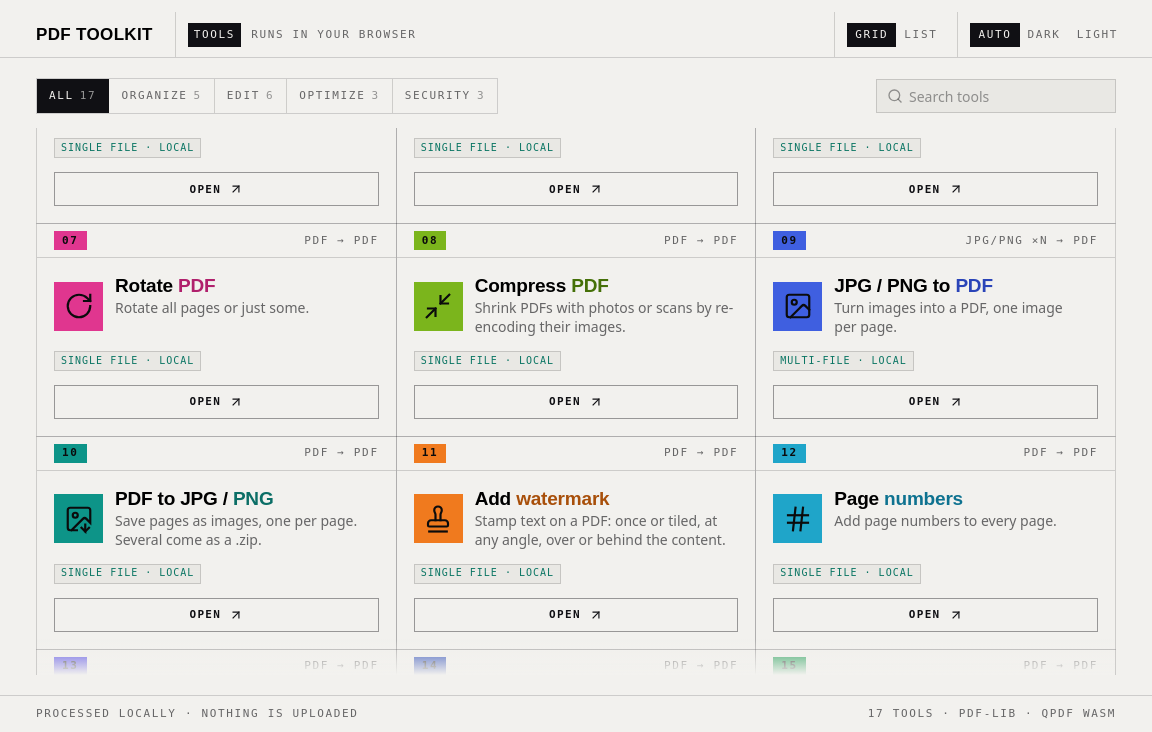
Scenario: navigates from the grid to a tool and back
(page scrolled)
Expected: the button "All tools" is not shown
Click the button with aria-label "Open Compress PDF": (576, 402) [414,385,738,419]
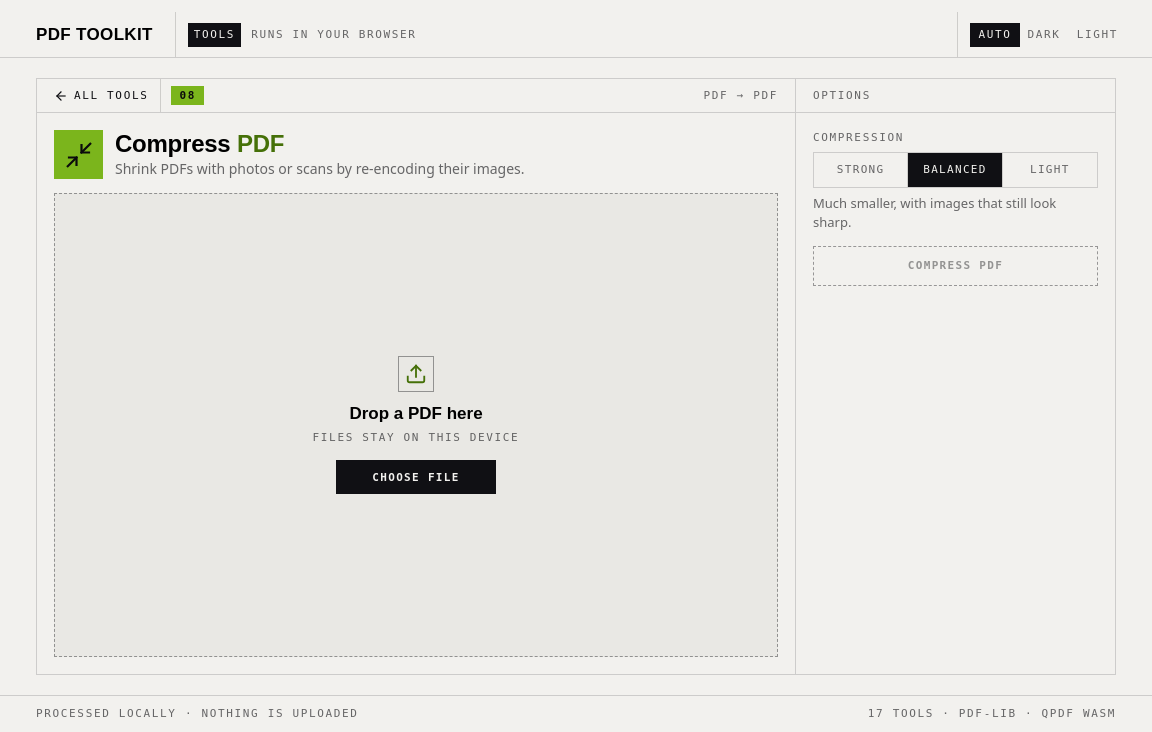
Expected: the heading "Compress PDF" is shown, [115,130,284,157]
Click the button "All tools": (99, 96) [37,79,160,112]
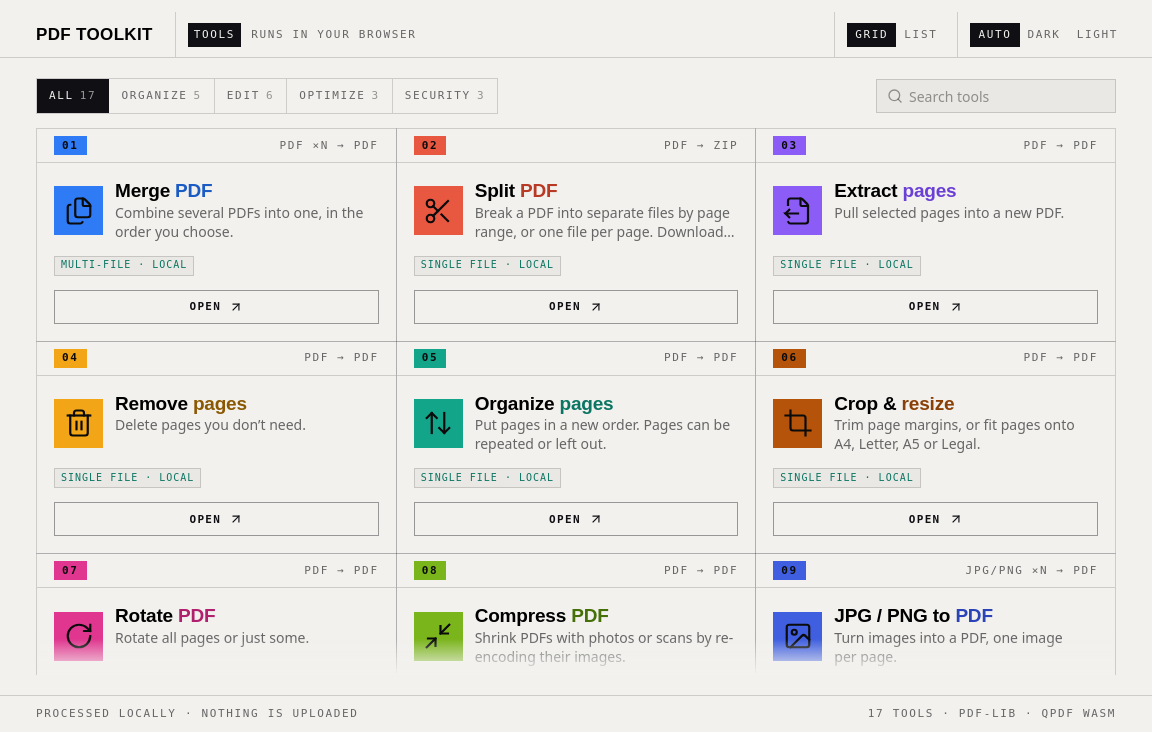
Expected: the search field labelled "Search tools" is shown, [877,80,1115,112]
